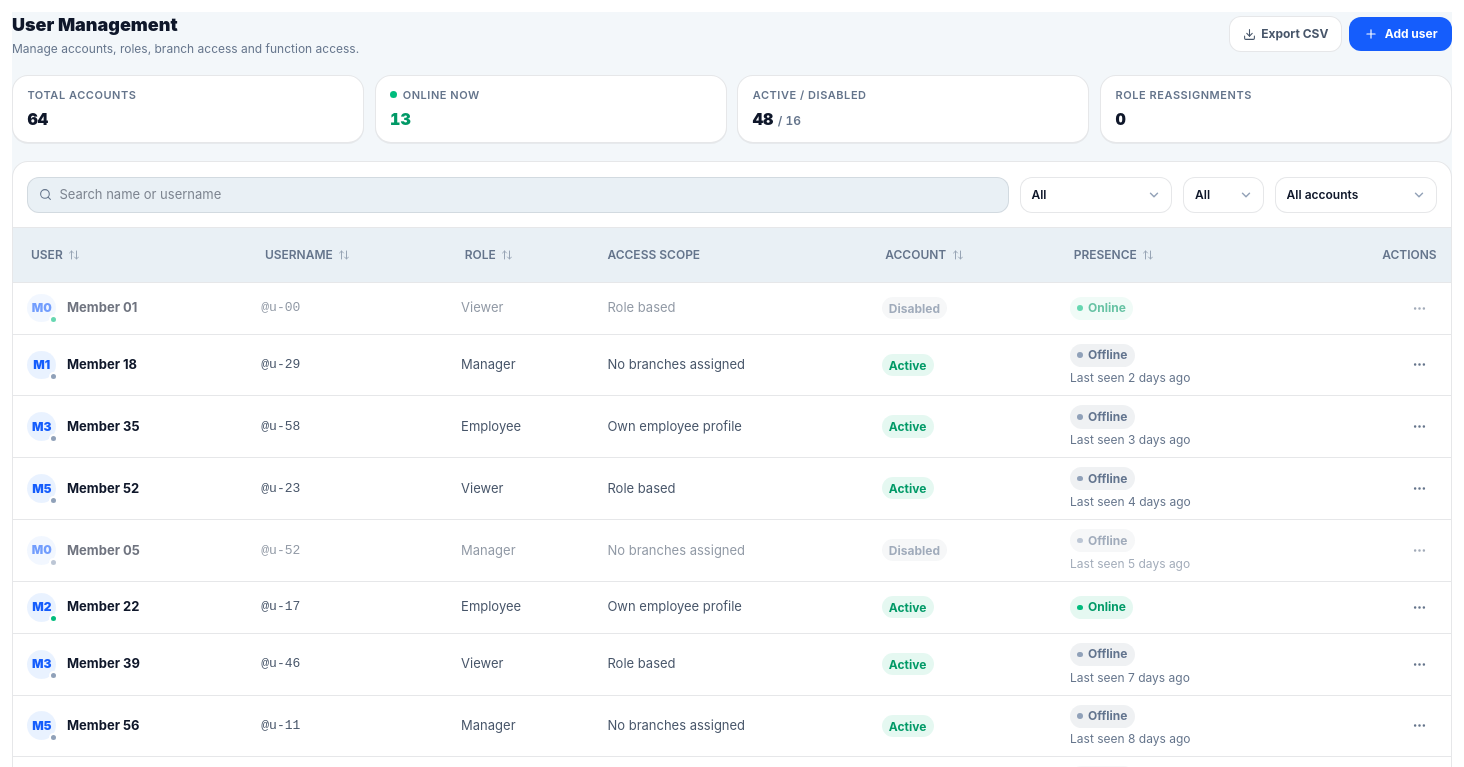
Test case: Users sorting › sorts Username descending, applied before paging
What coordinates should you click on to do the following:
click the button "Username"
I would click on:
 (308, 255)
Its box is x1=261 y1=239 x2=354 y2=271.
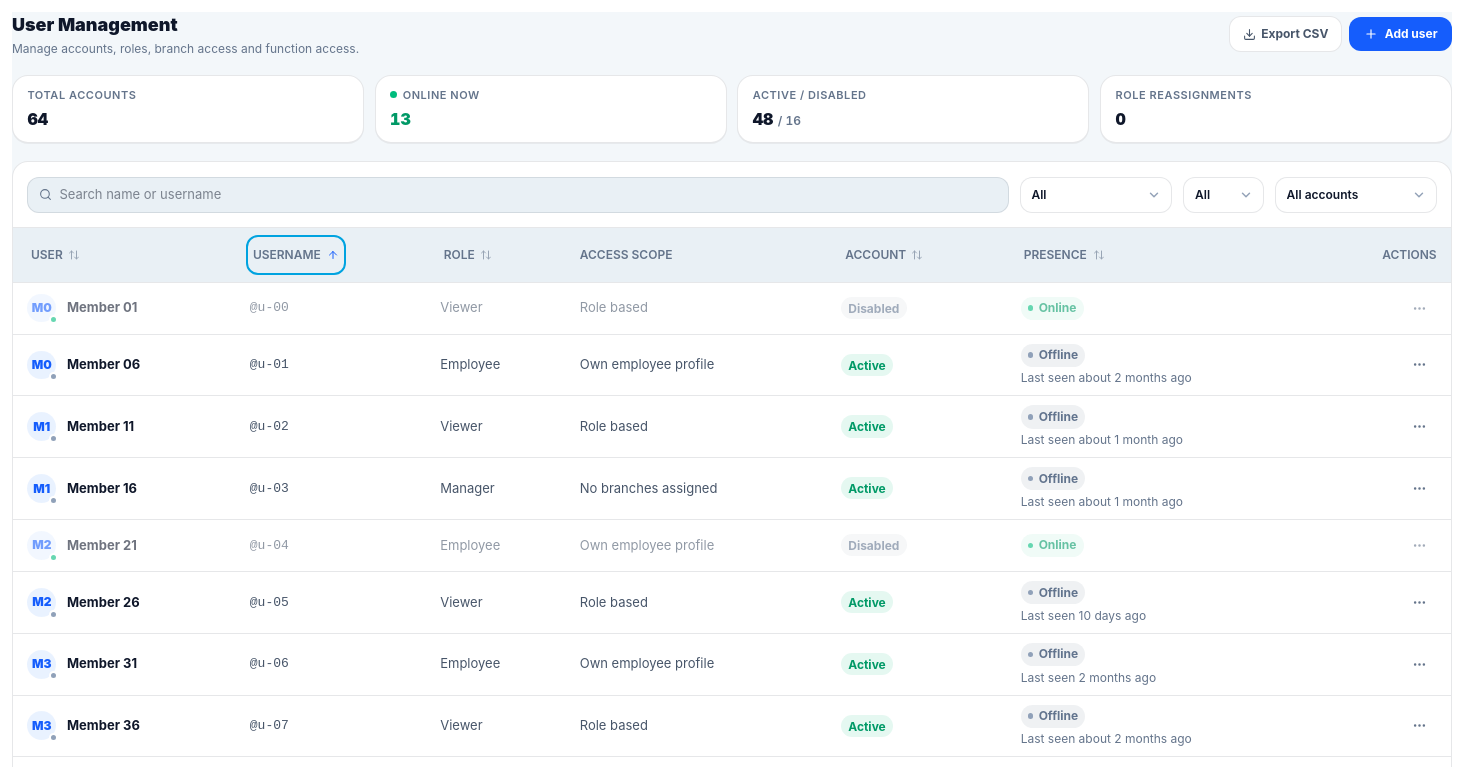
What coordinates should you click on to do the following:
click the button "Username"
I would click on:
 (296, 255)
Its box is x1=250 y1=239 x2=342 y2=271.
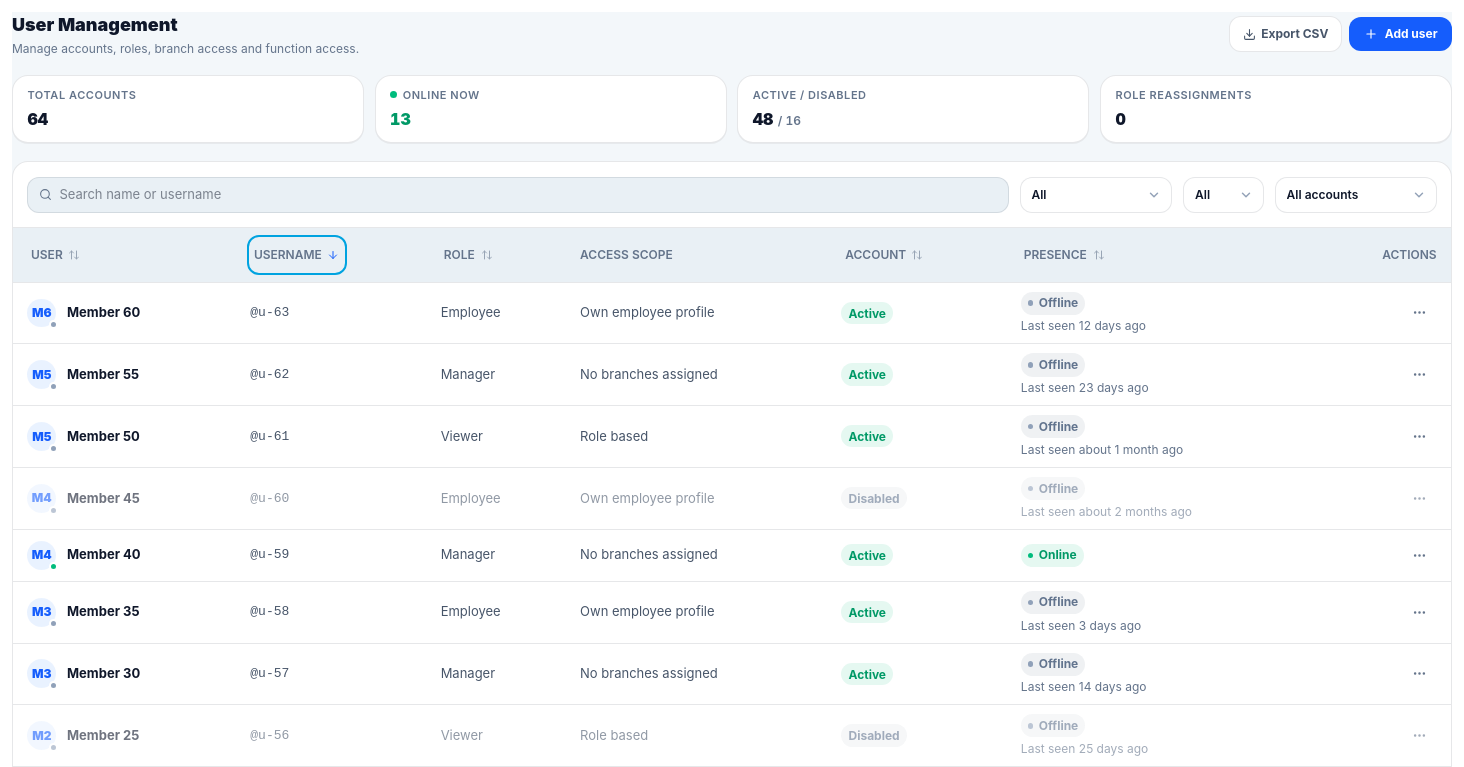
Check: the row that starts with "Member 60" shows "@u-63", box x1=13 y1=282 x2=1451 y2=344
